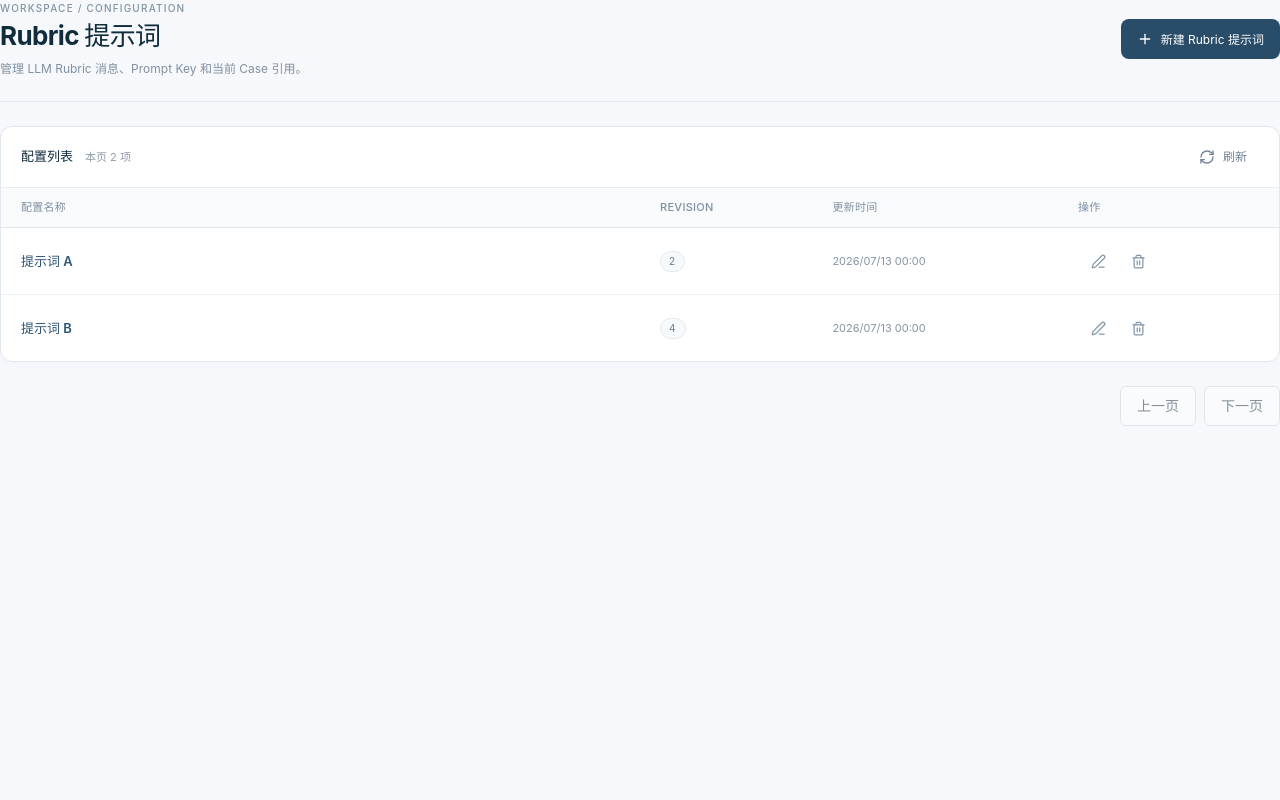
Test: 配置资源页面 › Rubric 删除切换目标时忽略前一目标迟到的引用结果
Click the button named "删除 提示词 A".
click(1138, 261)  # box [1119, 245, 1158, 277]
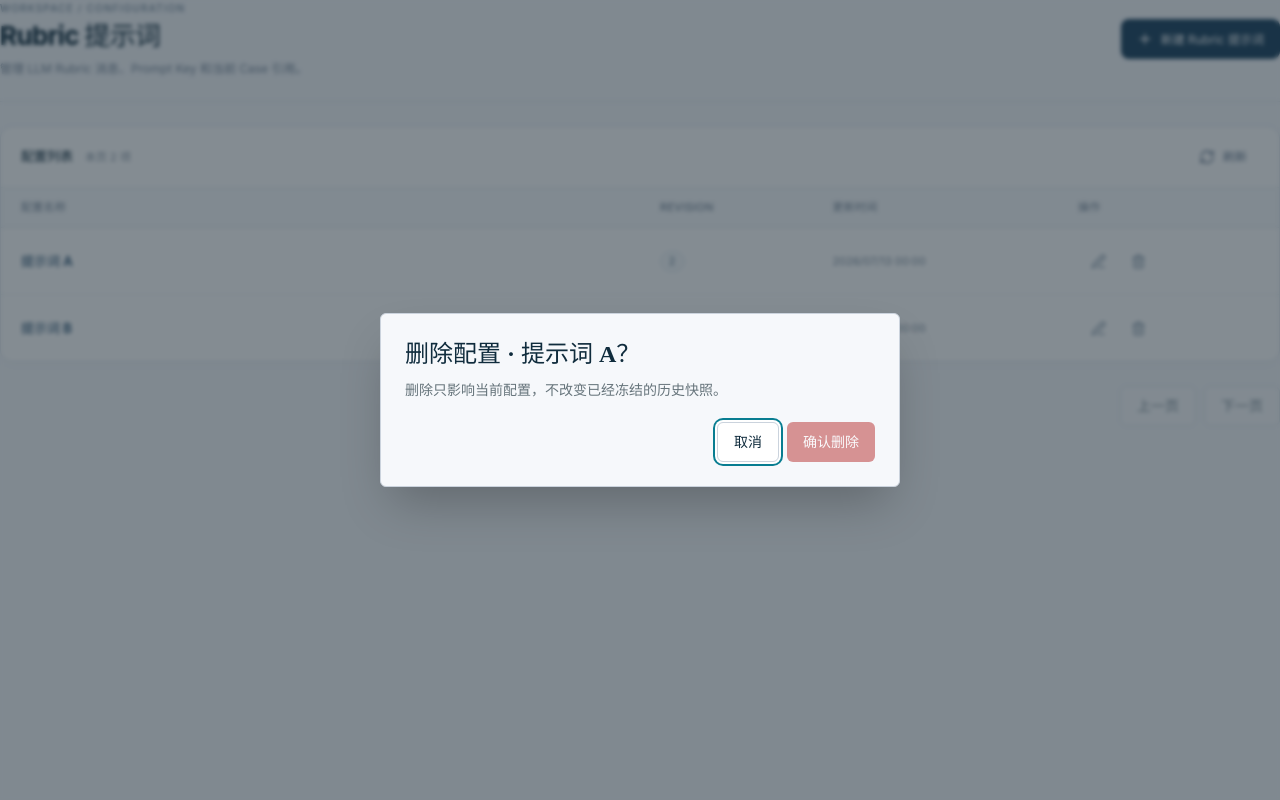
Click the button "取消".
click(748, 442)  # box [717, 422, 779, 462]
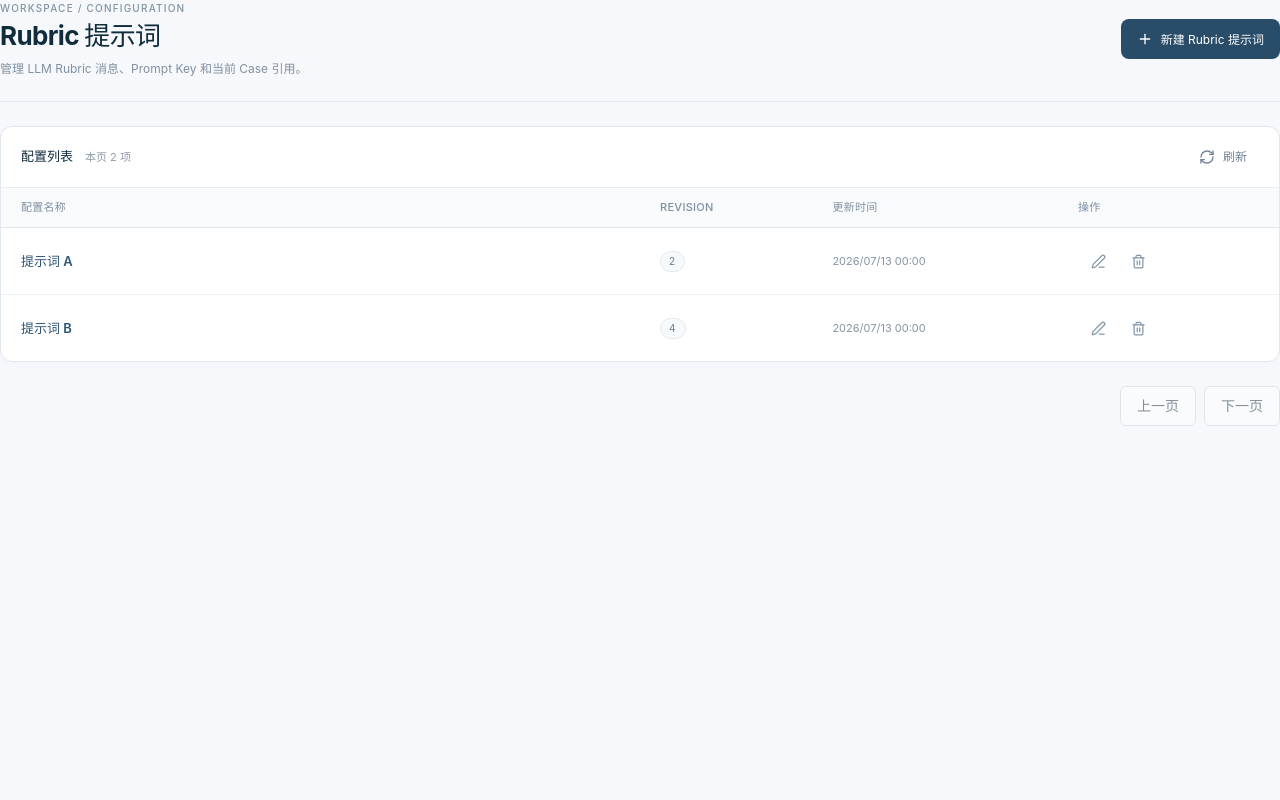
Click the button named "删除 提示词 B".
click(1138, 328)  # box [1119, 312, 1158, 344]
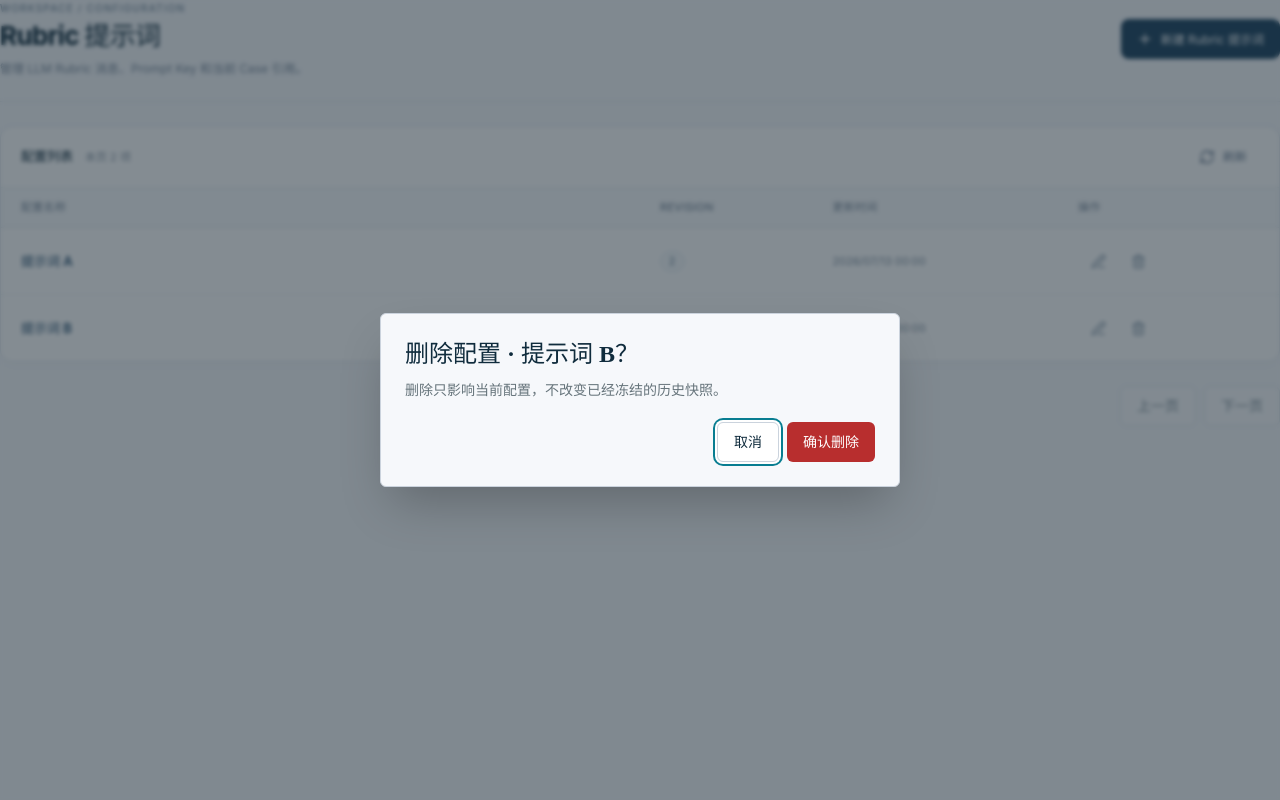
Expected: the button "确认删除" is enabled, [787, 422, 875, 462]
